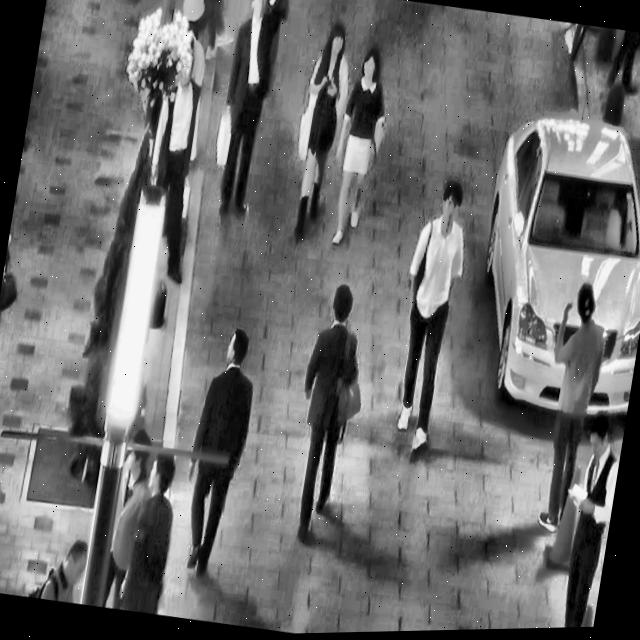light_vehicle: (454, 89, 640, 438)
